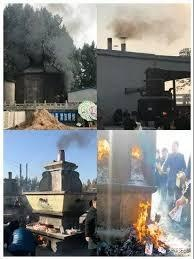fire: (133, 196, 166, 249), (96, 135, 109, 158), (130, 144, 141, 158)
